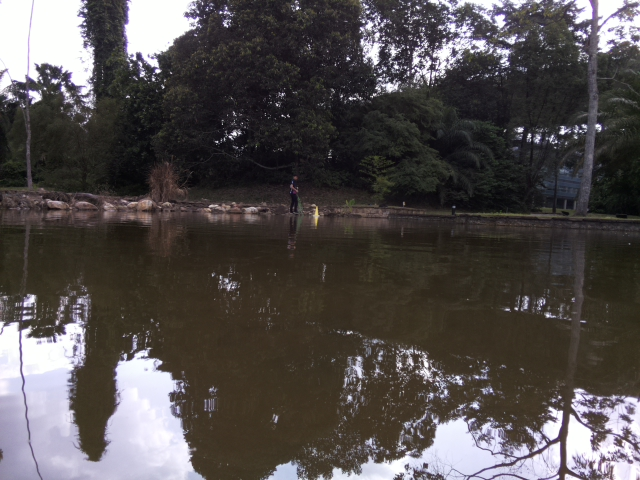checkpoint: (312, 205, 320, 218)
